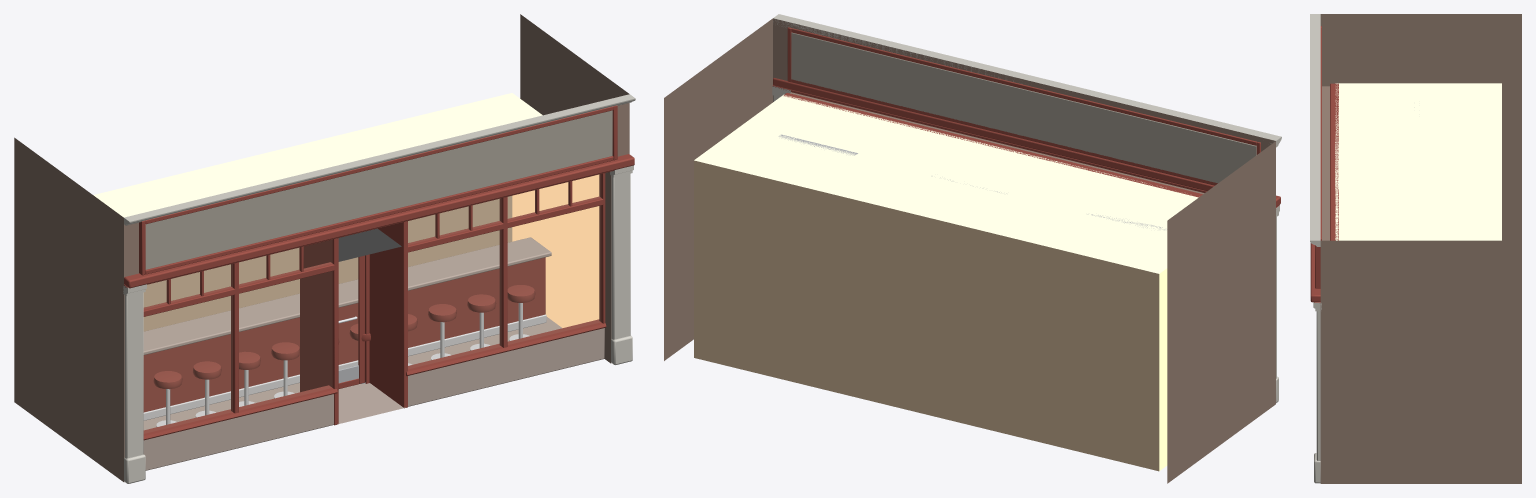
Rendered from shop_lit_8a.glb.
3 renders of one model, left to right at view 1: azimuth 30°, elevation 25°; view 2: azimuth 150°, elevation 25°; view 3: azimuth 270°, elevation 25°, orthographic. The views are drawn at different scales.
Parts seen in each view (by area): view 1: shop_lit_8a; view 2: shop_lit_8a; view 3: shop_lit_8a.
Part boxes in pixels (bbox=[...]): shop_lit_8a: bbox=[14, 14, 635, 483]; shop_lit_8a: bbox=[664, 14, 1281, 483]; shop_lit_8a: bbox=[1310, 14, 1521, 483].
Size of the model in its own units: 8 by 4 by 3.16.
